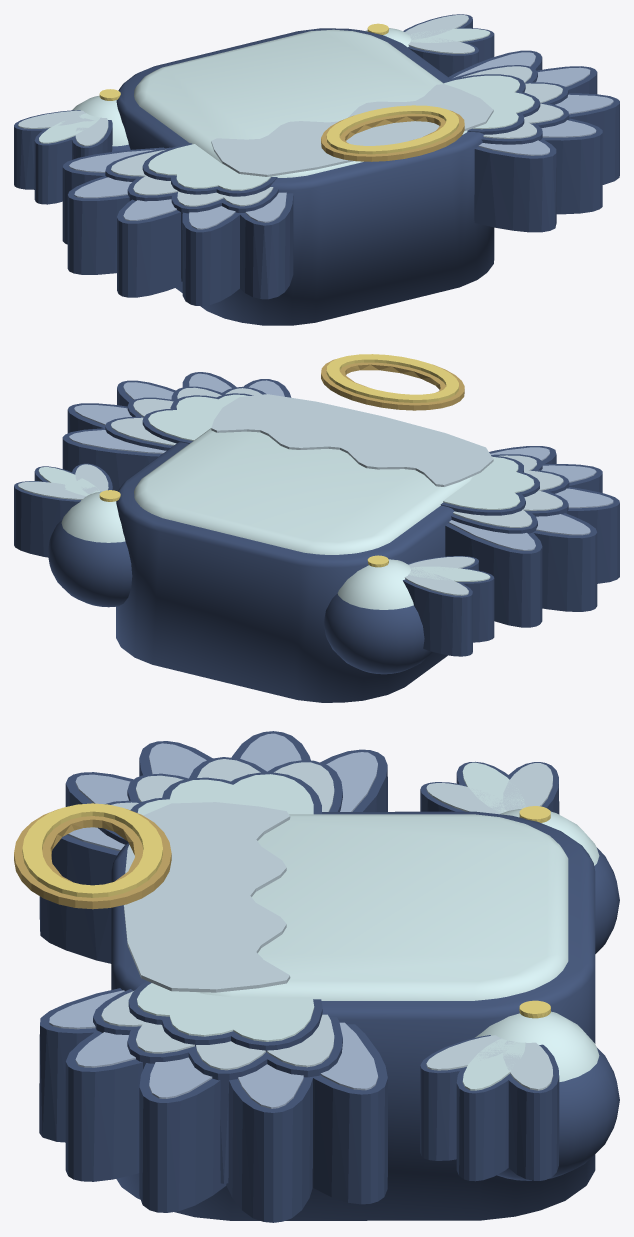
Rendered from body_anjo.fbx.
The picture shows the model from 3 angles, top to bottom: view 1: azimuth 30°, elevation 25°; view 2: azimuth 150°, elevation 25°; view 3: azimuth 270°, elevation 25°; orthographic projection. The views are drawn at different scales.
Parts seen in each view (by area): view 1: body_anjo_corpo, body_anjo_mao_esq, body_anjo_mao, body_anjo_corpo_neon; view 2: body_anjo_corpo, body_anjo_mao_esq, body_anjo_mao, body_anjo_corpo_neon; view 3: body_anjo_corpo, body_anjo_mao, body_anjo_mao_esq, body_anjo_corpo_neon.
Boxes of the visible parts, x1,y1,x2,y2 form: body_anjo_corpo: (62, 28, 619, 325); body_anjo_mao_esq: (14, 89, 130, 204); body_anjo_mao: (365, 14, 494, 76); body_anjo_corpo_neon: (326, 105, 458, 154); body_anjo_corpo: (62, 359, 619, 702); body_anjo_mao_esq: (323, 555, 494, 674); body_anjo_mao: (14, 463, 132, 607); body_anjo_corpo_neon: (326, 354, 458, 402); body_anjo_corpo: (14, 731, 595, 1222); body_anjo_mao: (420, 1000, 619, 1181); body_anjo_mao_esq: (420, 761, 619, 953); body_anjo_corpo_neon: (22, 803, 162, 897).
Size of the model in its own units: 7.46 by 2.46 by 5.
1 material, 1 textured.
